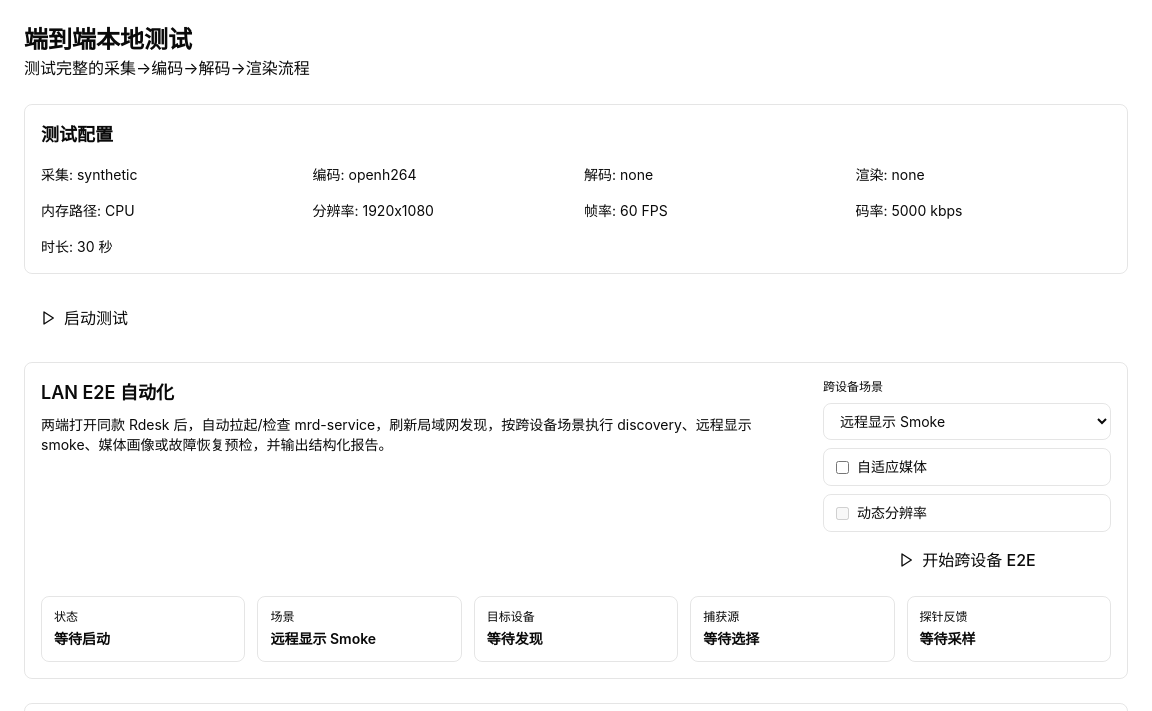
Test case: E2ETestPage LAN automation › runs LAN remote display automation through IPC commands
Click the button "开始跨设备 E2E" at (967, 560), box left=823, top=540, right=1111, bottom=580
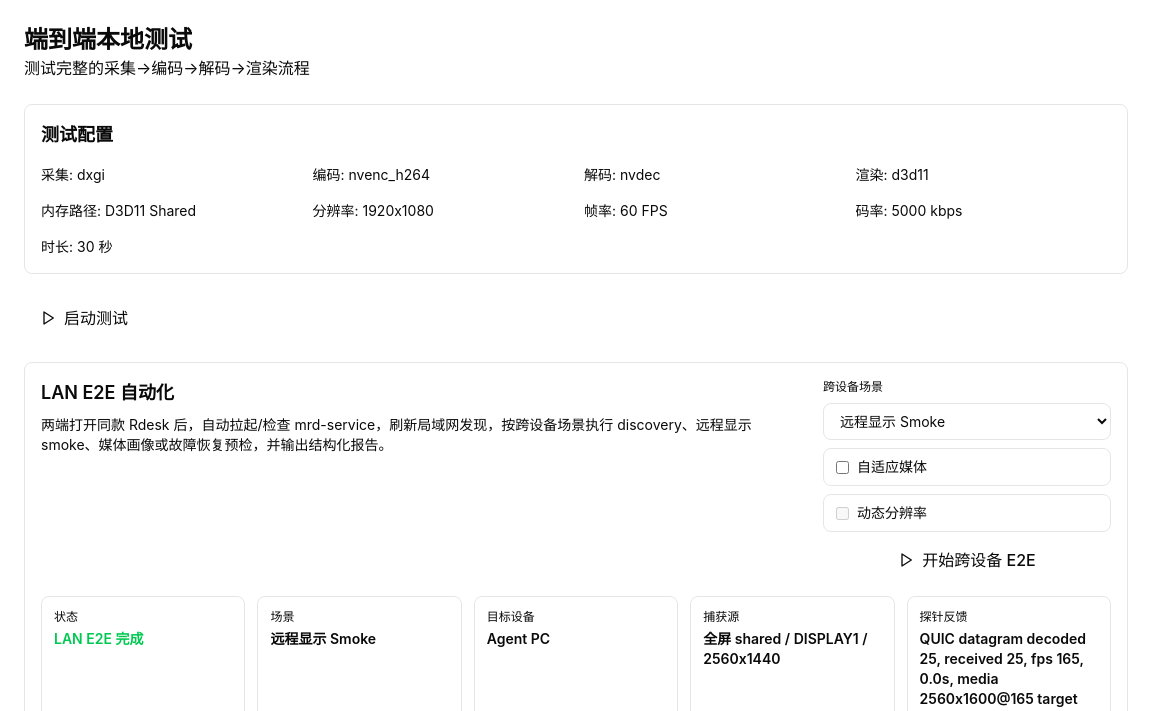
Now the text "LAN E2E 完成" is shown, box left=54, top=630, right=144, bottom=647
Now the text "Agent PC" is shown, box left=487, top=630, right=550, bottom=647
Now the text "全屏 shared / DISPLAY1 / 2560x1440" is shown, box left=703, top=629, right=882, bottom=669
